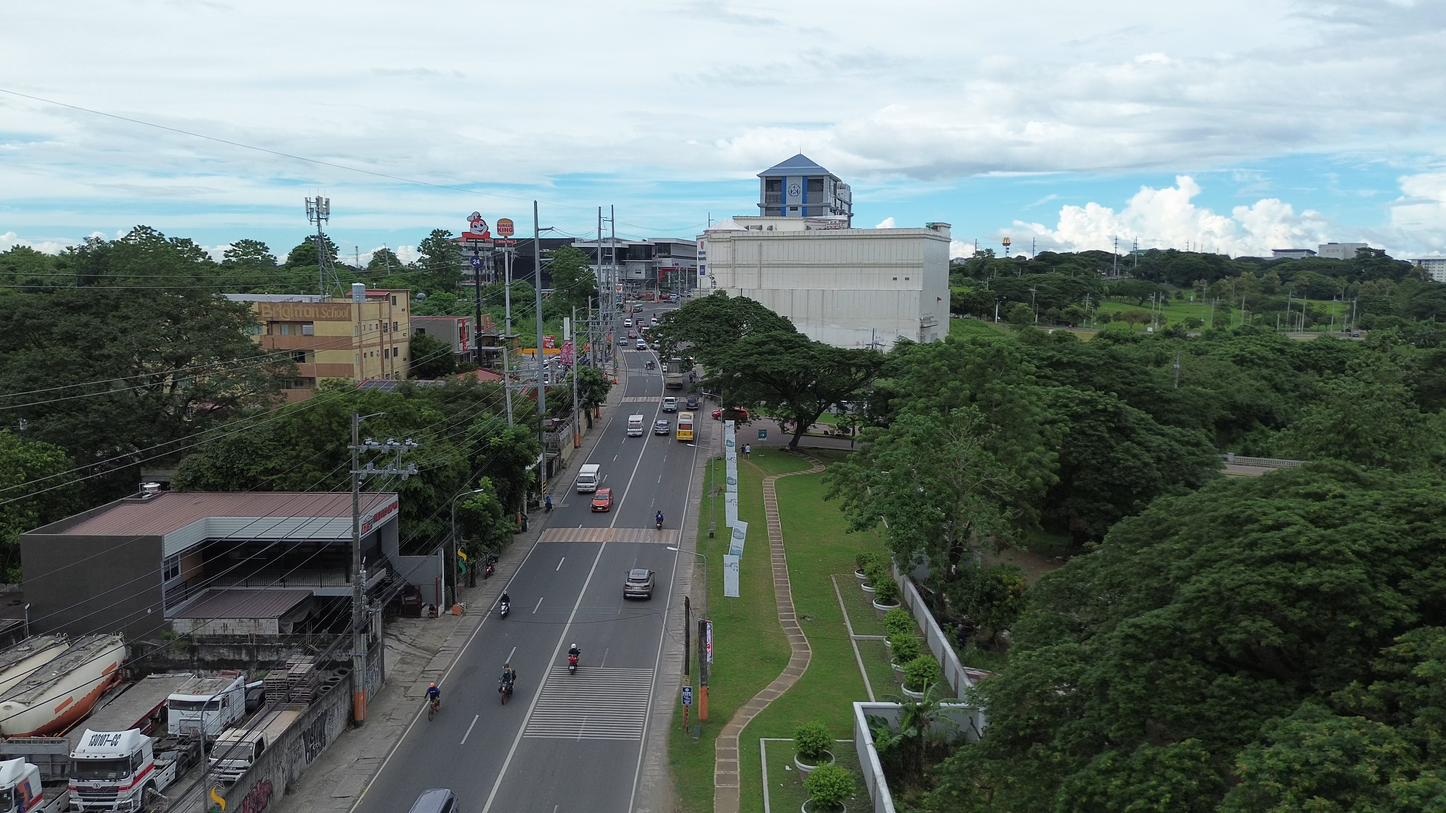car: (624, 568, 654, 599), (591, 488, 613, 511), (730, 408, 748, 421), (685, 395, 700, 410), (636, 338, 647, 350), (627, 330, 639, 339), (651, 315, 659, 326), (624, 318, 633, 327)
motorcycle: (499, 682, 512, 704), (428, 697, 439, 721), (484, 557, 496, 578), (499, 601, 510, 618), (569, 654, 578, 673)
truck: (69, 729, 200, 813)
vehicle: (0, 635, 127, 737), (209, 704, 306, 784), (168, 671, 245, 739), (0, 635, 69, 695), (0, 758, 69, 813), (409, 789, 458, 813), (576, 464, 601, 493), (665, 358, 685, 388), (675, 413, 694, 441), (712, 408, 749, 422), (627, 414, 644, 436), (654, 419, 670, 436), (661, 396, 677, 412), (498, 600, 510, 618), (667, 294, 679, 303), (627, 331, 639, 339), (651, 315, 659, 326), (633, 304, 642, 312)
